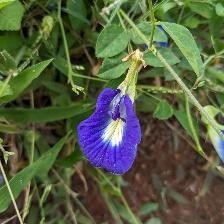shankupushpam: (74, 86, 145, 179)
